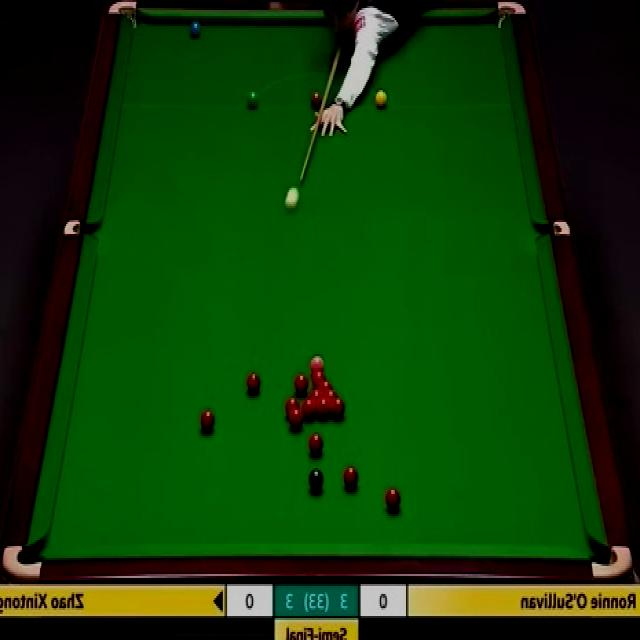pocket: (1, 543, 43, 585), (589, 545, 635, 583), (108, 0, 140, 32), (493, 0, 528, 29), (534, 218, 572, 236), (64, 220, 99, 235)
